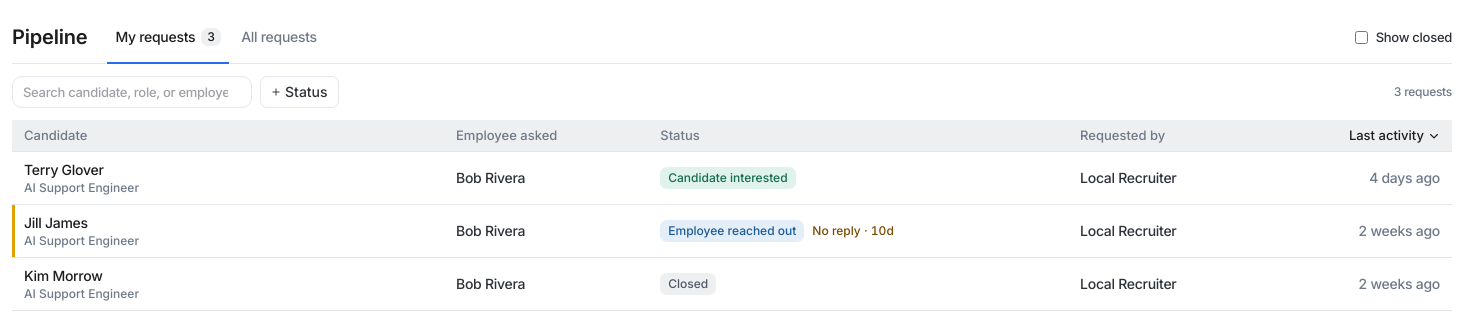
PipelinePage › narrows by search text without touching the URL
Expected: the table is shown, [12,120,1452,311]
Type "kim" into the search field named "Search requests".
click(132, 92); type("kim")  # box [12,76,252,108]
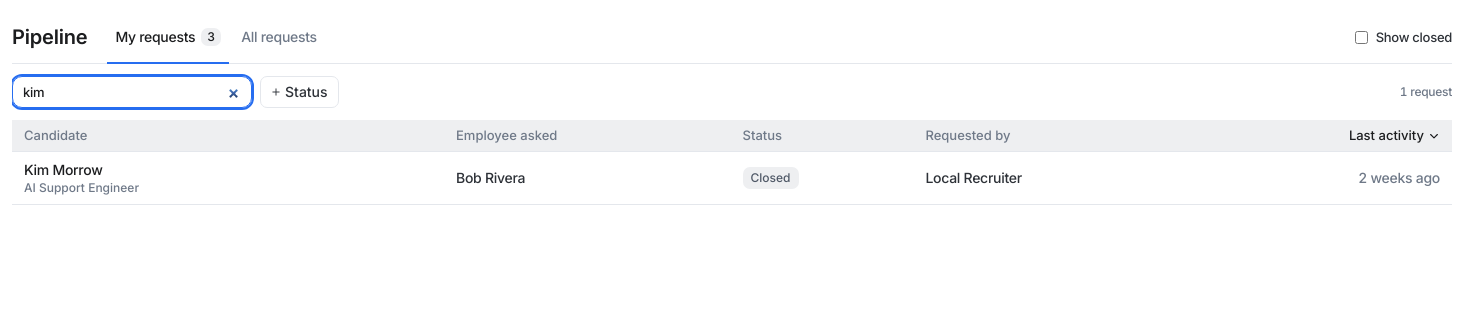
Expected: the cell "Kim Morrow AI Support Engineer" is shown, [12,152,444,205]
Expected: the text "1 request" is shown, [1400,83,1452,101]
